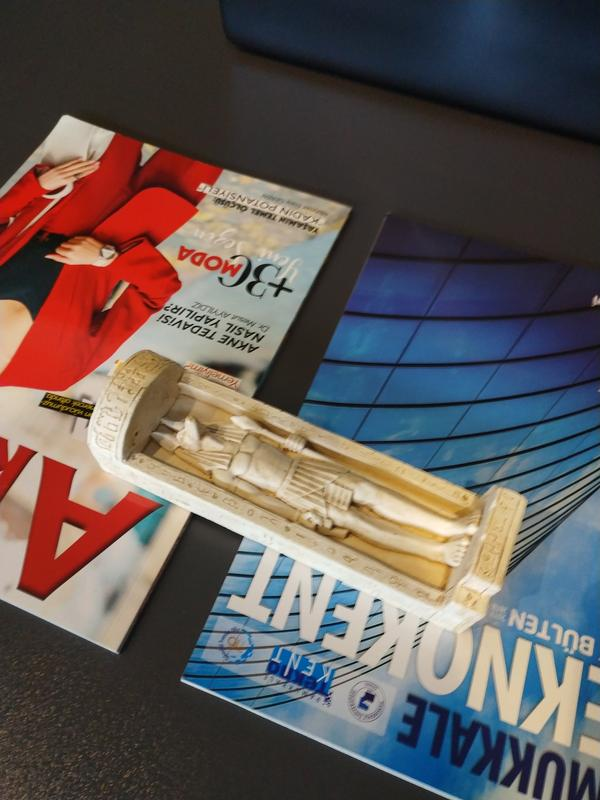heykel: (85, 339, 534, 639)
